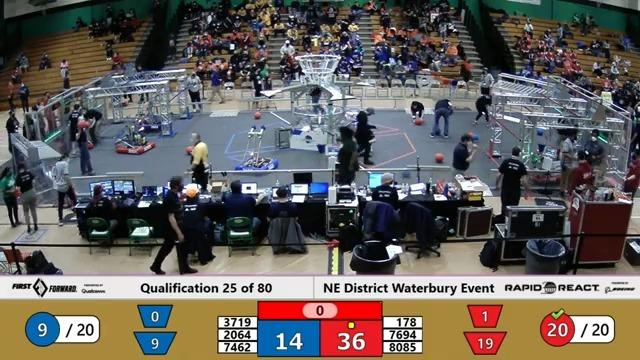robot: (228, 119, 284, 179), (521, 135, 582, 188), (127, 86, 173, 132), (333, 95, 376, 138), (112, 120, 160, 158)
